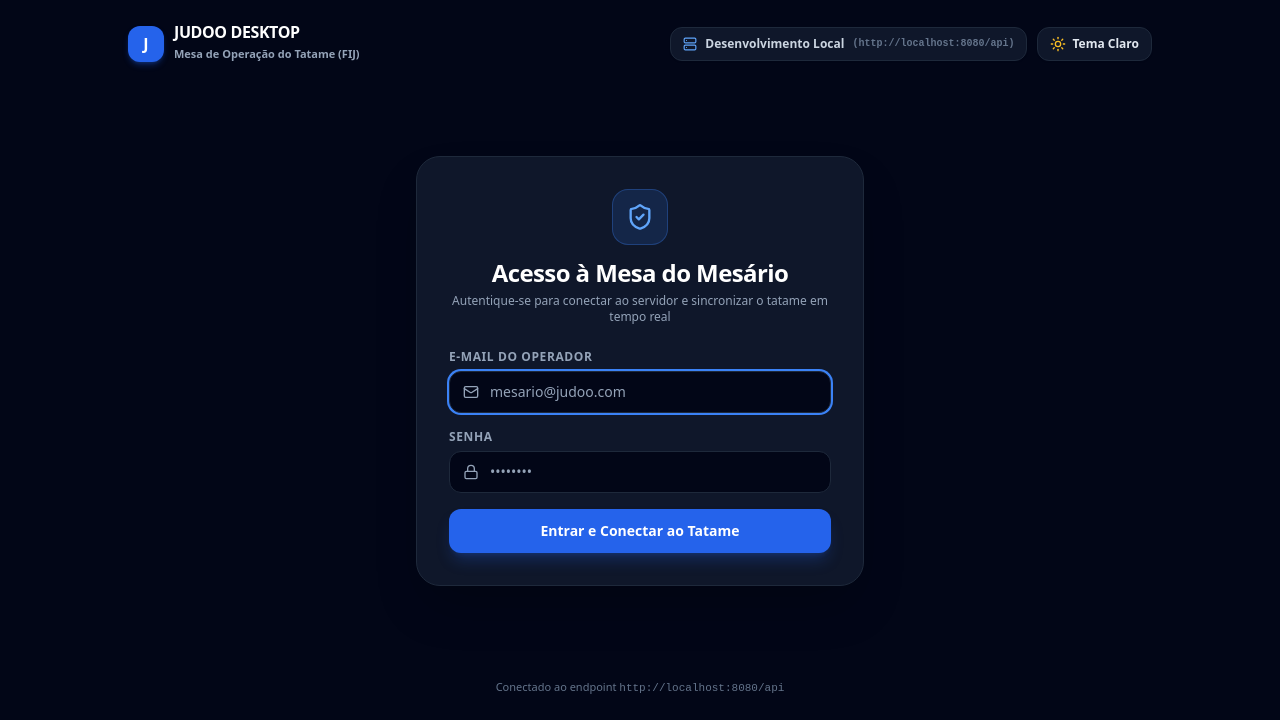
Test: Fluxo de Telas (LoginView -> MesaMesarioView) › autentica, carrega os dados reais do backend na Mesa do Mesário e permite fazer logout
In the field with placeholder "mesario@judoo.com": (640, 392) [449,371,831,413], type "carlos@judoo.com"
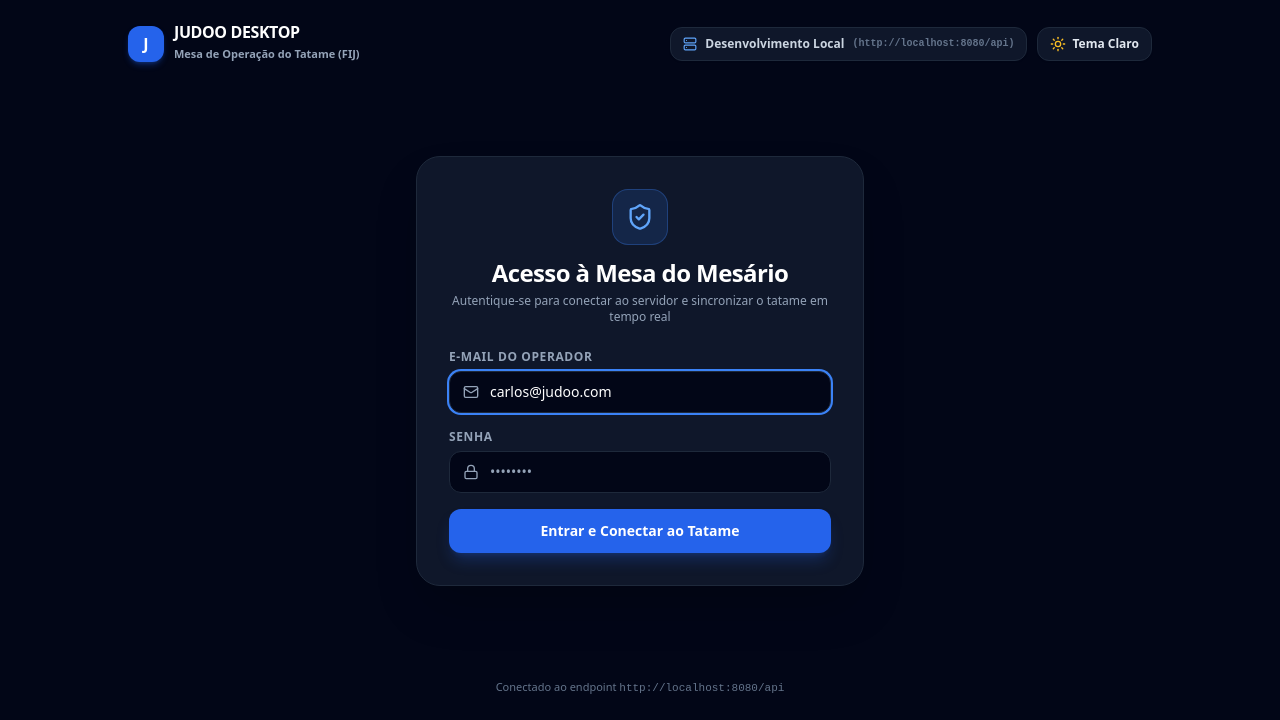
In the password field with placeholder "••••••••": (640, 472) [449,451,831,493], type "123456"
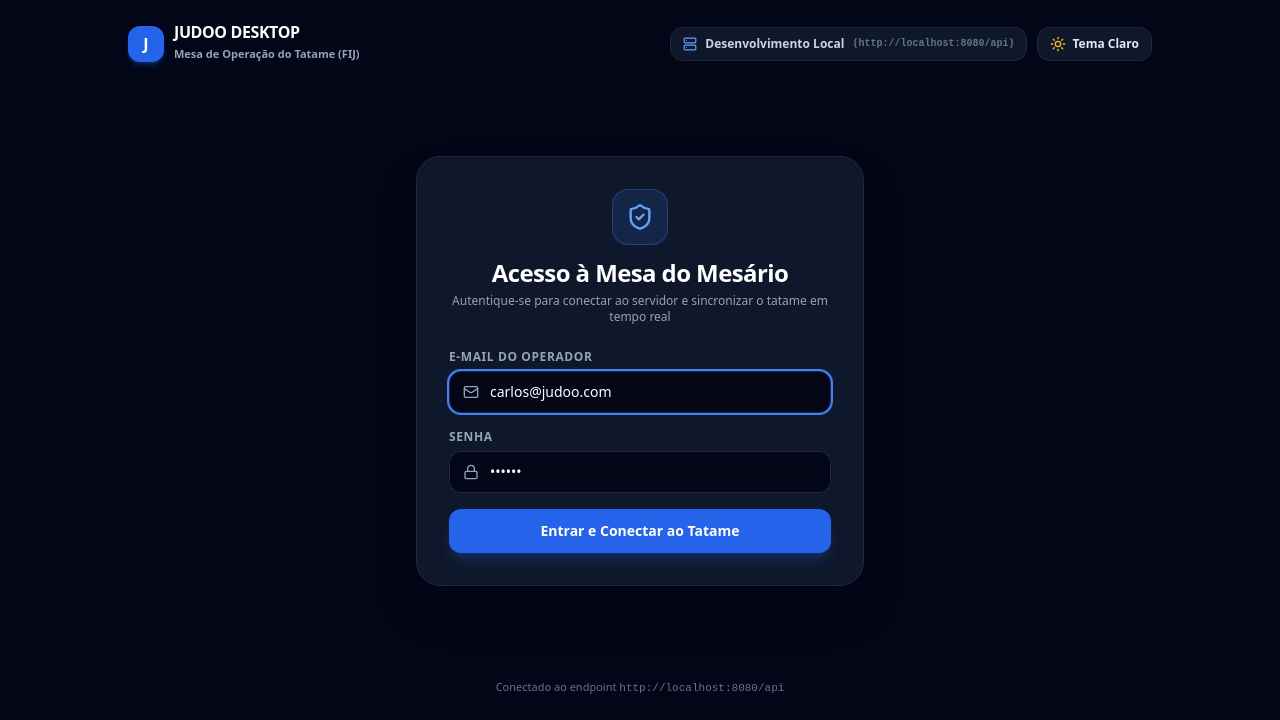
Click the button "Entrar e Conectar ao Tatame": (640, 531) [449,509,831,553]
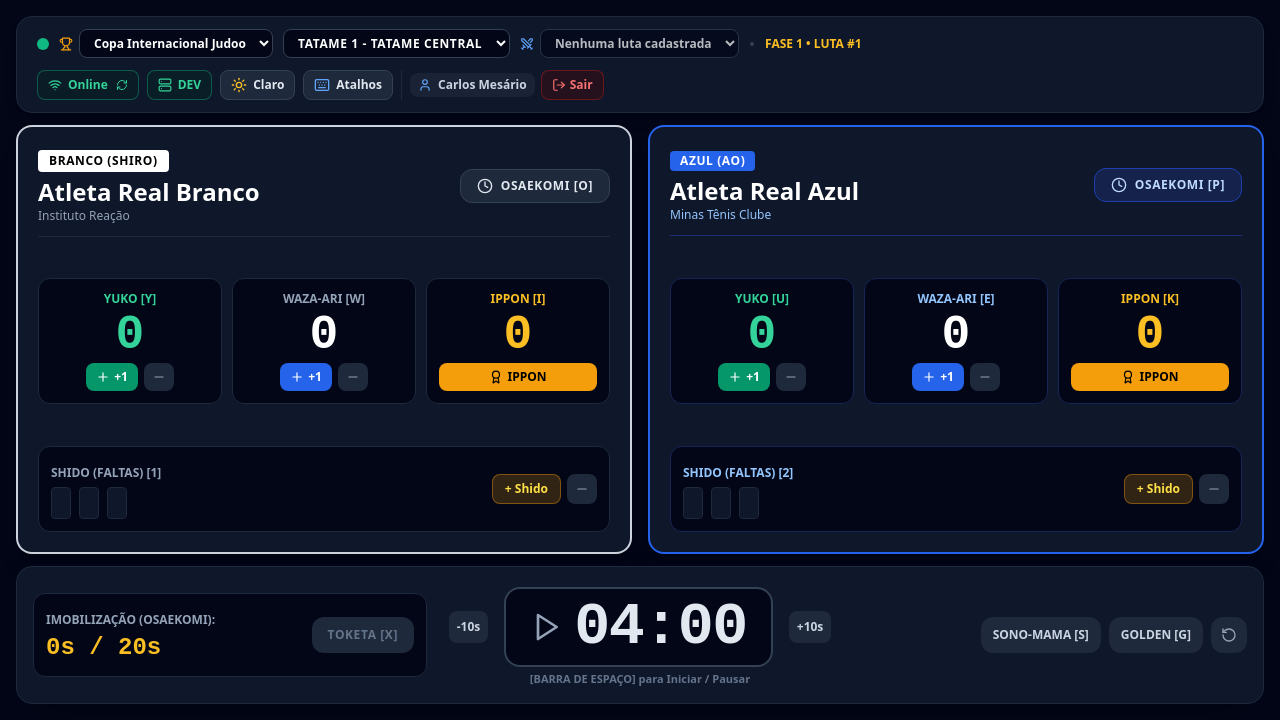
expect the heading "Atleta Real Branco" is shown: met, box [38,176,260,208]
expect the heading "Atleta Real Azul" is shown: met, box [670,175,859,207]
expect the text "Instituto Reação" is shown: met, box [38,207,130,224]
Faz logout e retorna para a tela de login
Click the button titled "Encerrar sessão e voltar ao login": (572, 85) [541,70,604,100]
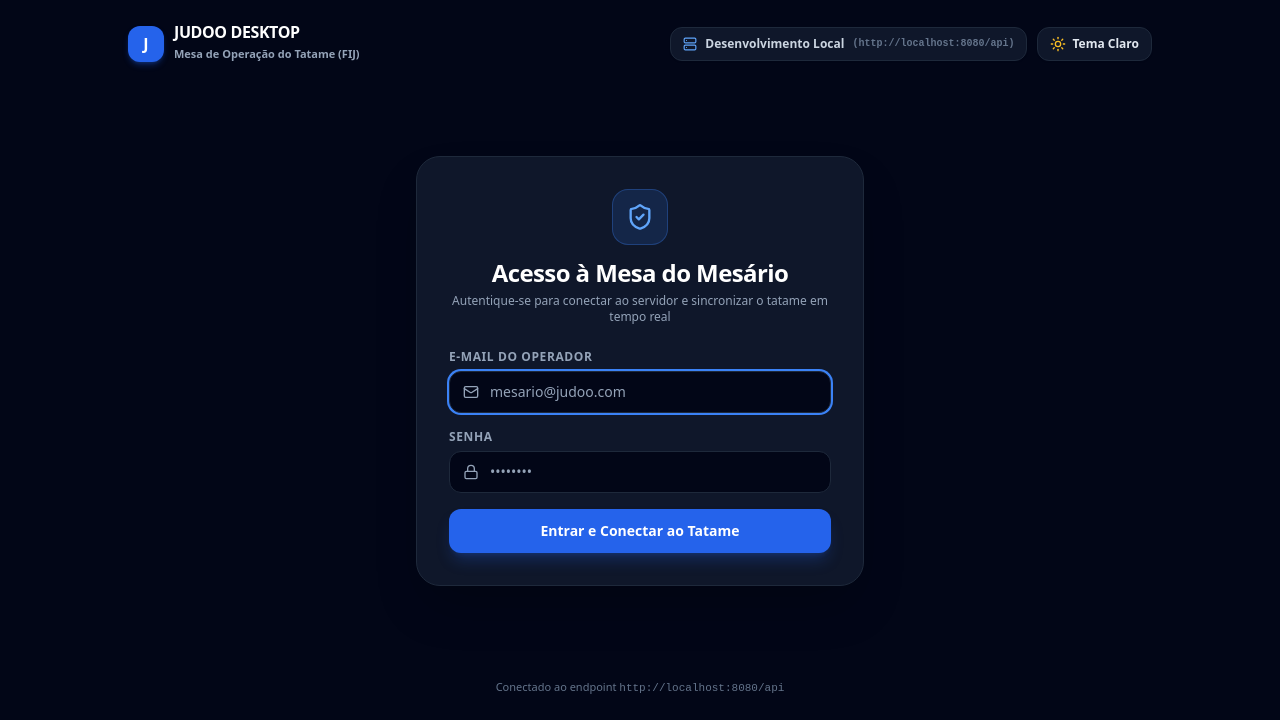
expect the heading "Acesso à Mesa do Mesário" is shown: met, box [492,256,788,289]
